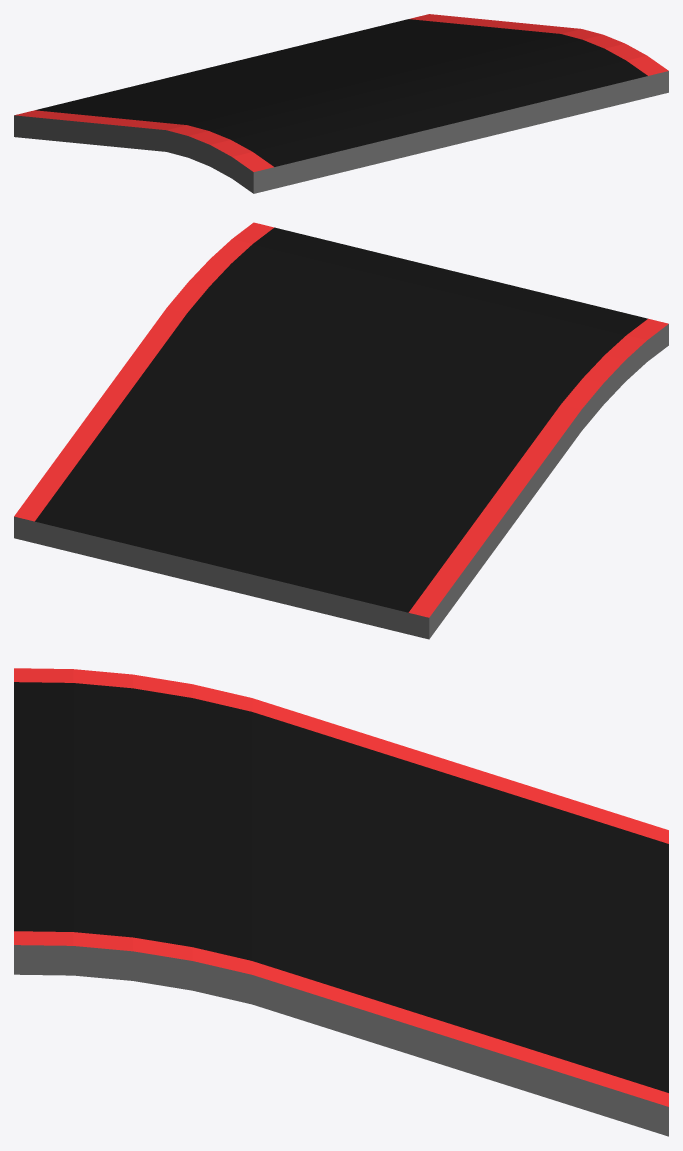
Rendered from Streckenmodul_-_Rampe_Flach_Oben.fbx.
3 views of the same model, one above another, from view 1: azimuth 30°, elevation 25°; view 2: azimuth 150°, elevation 25°; view 3: azimuth 270°, elevation 25° (orthographic). The views are drawn at different scales.
Visible parts, largest first — view 1: Streckenmodul - Rampe_Flach_Oben; view 2: Streckenmodul - Rampe_Flach_Oben; view 3: Streckenmodul - Rampe_Flach_Oben.
Part boxes in pixels (x1,y1,x2,y2): Streckenmodul - Rampe_Flach_Oben: (14, 14, 668, 193); Streckenmodul - Rampe_Flach_Oben: (14, 222, 668, 639); Streckenmodul - Rampe_Flach_Oben: (14, 668, 668, 1136).
Size of the model in its own units: 394 by 127 by 394.
